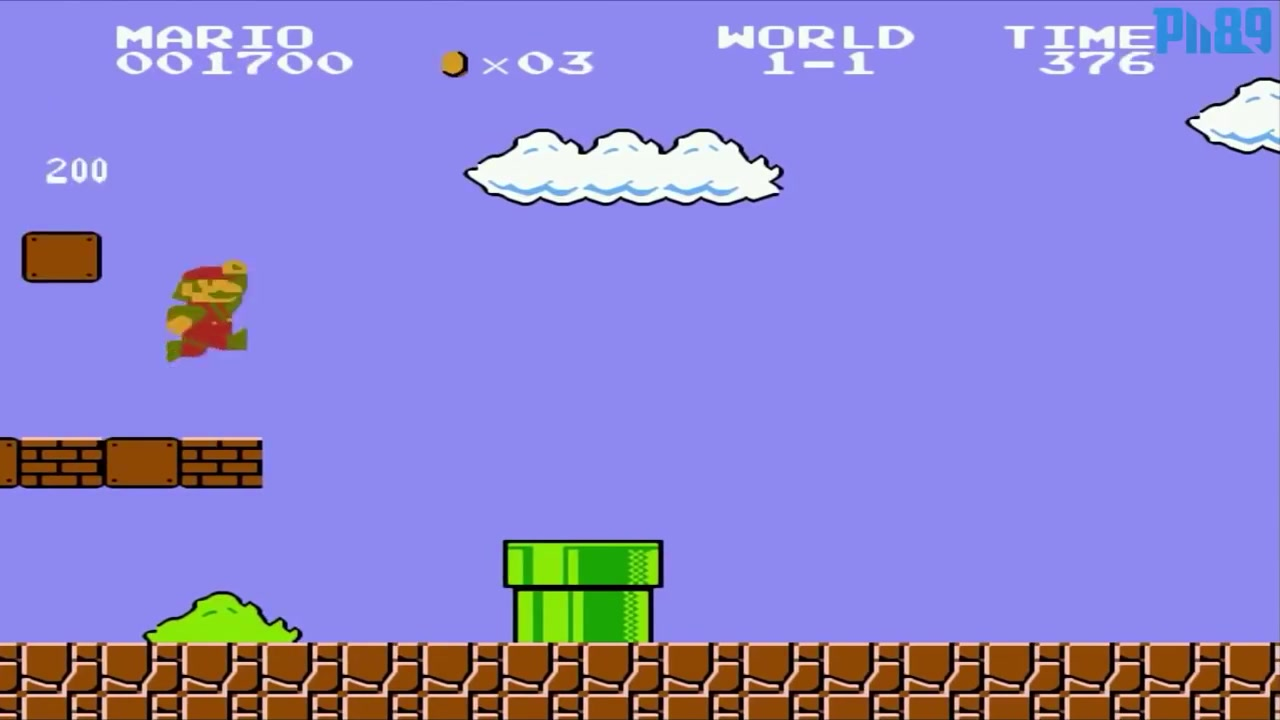mario: (167, 259, 254, 366)
